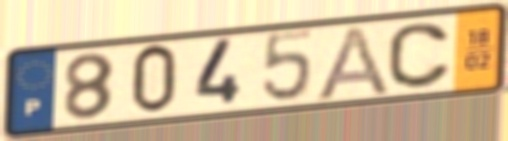0: (128, 41, 183, 119)
4: (192, 34, 250, 112)
5: (259, 27, 316, 107)
8: (60, 50, 116, 122)
A: (310, 22, 394, 103)
C: (385, 21, 455, 91)
